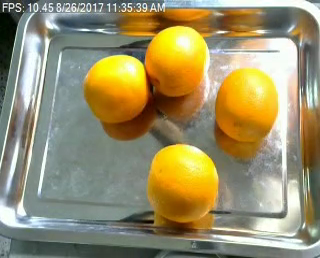Orange: (144, 142, 217, 220), (215, 67, 279, 142), (144, 24, 207, 97), (83, 54, 151, 121)
